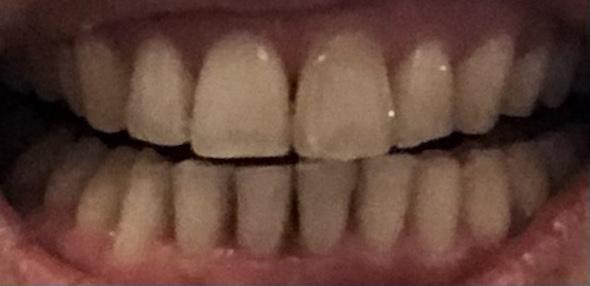teeth: (293, 33, 394, 159), (192, 33, 286, 155), (124, 37, 191, 143), (457, 35, 515, 131), (116, 157, 168, 257), (174, 164, 229, 257), (402, 42, 450, 142), (302, 165, 355, 255), (358, 161, 410, 250), (413, 158, 458, 253), (239, 168, 288, 255), (463, 151, 504, 250), (84, 40, 126, 131)
